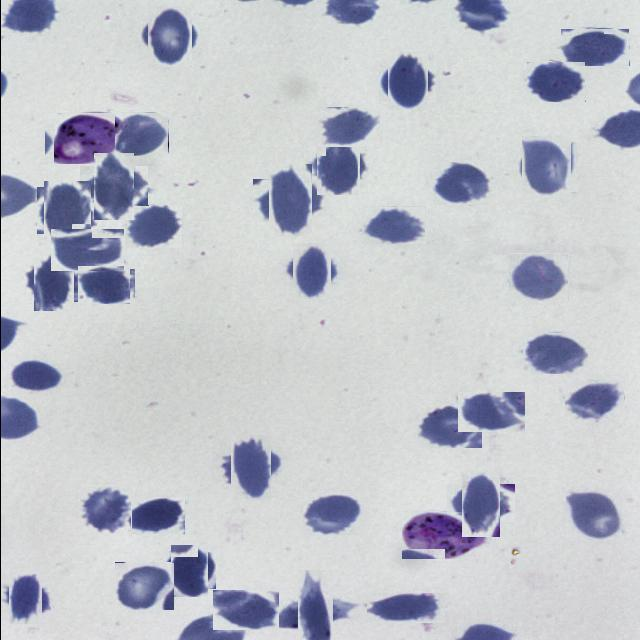difficult: (44, 112, 124, 164)
red blood cell: (285, 582, 346, 640), (260, 172, 318, 230), (50, 228, 124, 271), (518, 139, 574, 195), (565, 488, 622, 540), (86, 159, 140, 213), (508, 253, 568, 301), (114, 562, 174, 610), (454, 476, 506, 530), (522, 332, 588, 374), (224, 441, 276, 494), (142, 10, 195, 62), (40, 184, 92, 237), (417, 405, 481, 448), (457, 392, 524, 432), (302, 492, 364, 535), (212, 590, 278, 630), (560, 28, 629, 66), (79, 485, 131, 535), (316, 107, 379, 147), (382, 56, 432, 106), (312, 142, 362, 192), (432, 162, 490, 205), (122, 205, 180, 248), (361, 206, 425, 244), (526, 61, 585, 102), (564, 380, 624, 420), (114, 112, 168, 156), (28, 258, 77, 306), (366, 593, 444, 623), (286, 248, 334, 294), (77, 266, 135, 304), (126, 497, 184, 534), (166, 548, 211, 593), (6, 361, 63, 394), (4, 578, 46, 620)
trophozoite: (401, 511, 490, 559)
